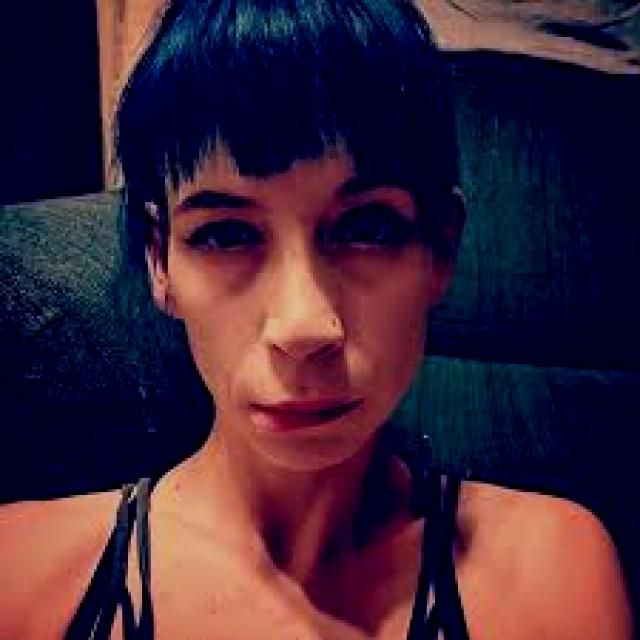stroke_face: (133, 12, 479, 472)
